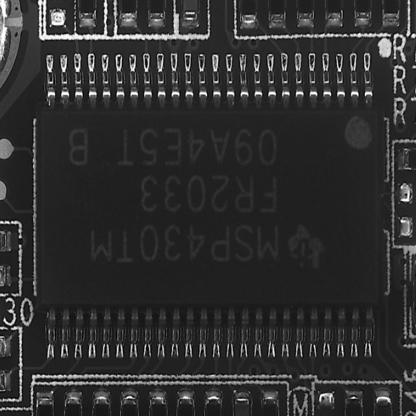PIN: (30, 286, 392, 366), (31, 45, 393, 124)
